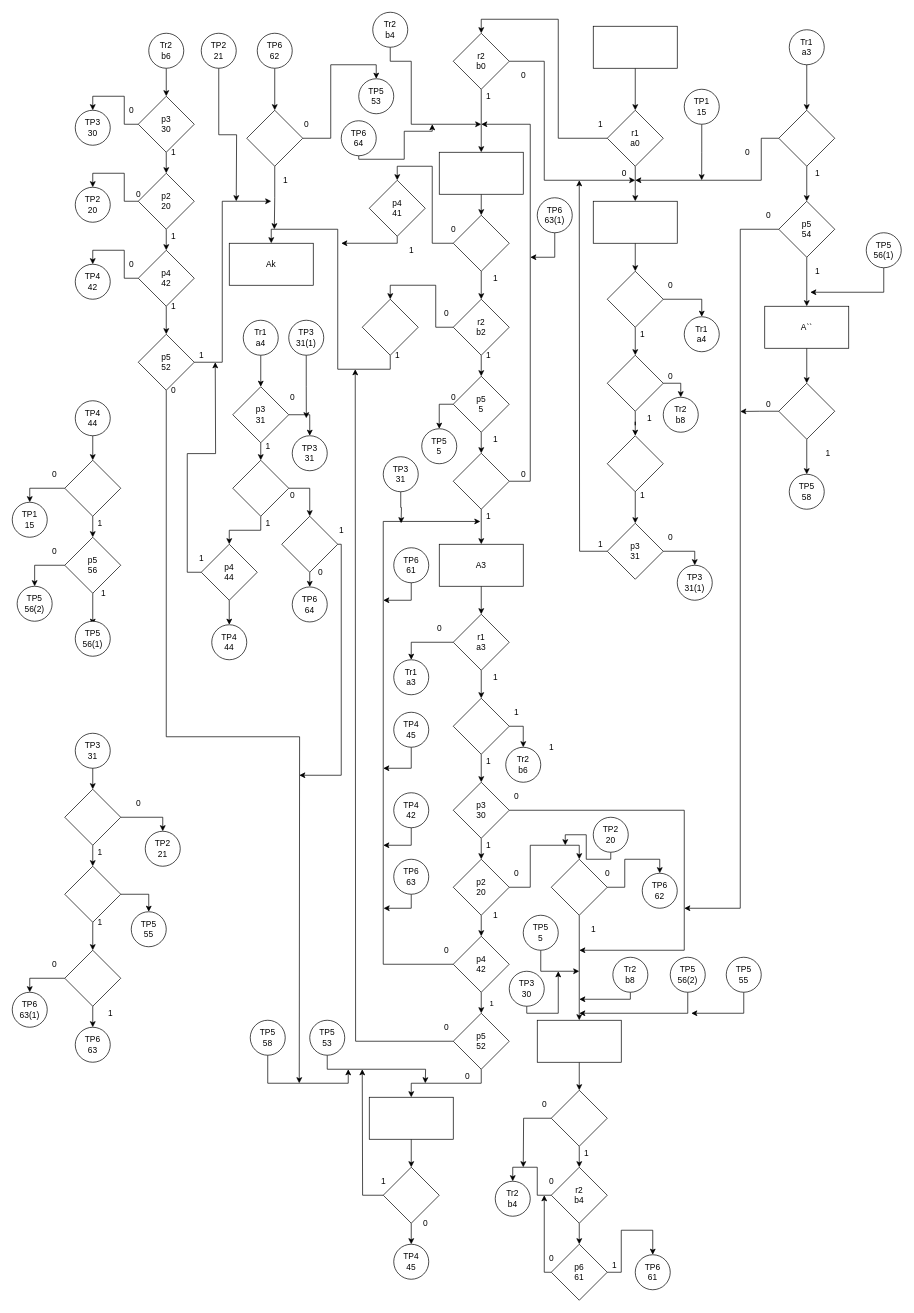
This 914x1313 diagram has some shape labels left out. Here are the shapes that lost their labels. From the top down, the box of each, then its label:
(593, 26, 677, 68): A0
(246, 110, 303, 166): p5 53
(778, 110, 835, 166): p1 12
(439, 152, 523, 194): A1
(593, 201, 677, 243): A4
(453, 215, 509, 271): r1 a1
(607, 271, 663, 327): r1 a4
(362, 299, 418, 355): p5 50
(607, 355, 663, 411): r2 b8
(778, 383, 835, 439): p5 58
(453, 453, 509, 509): p6 60
(607, 435, 663, 492): p1 13
(64, 460, 121, 516): p1 15
(232, 460, 289, 516): p2 22
(281, 516, 338, 572): p6 64
(453, 698, 509, 754): r2 b6
(64, 789, 121, 845): p2 21
(64, 866, 121, 922): p5 55
(551, 859, 607, 915): p6 62
(64, 950, 121, 1006): p6 63
(537, 1020, 621, 1062): A2
(369, 1097, 453, 1139): A`
(551, 1090, 607, 1146): r1 a2
(383, 1167, 439, 1223): p4 45
